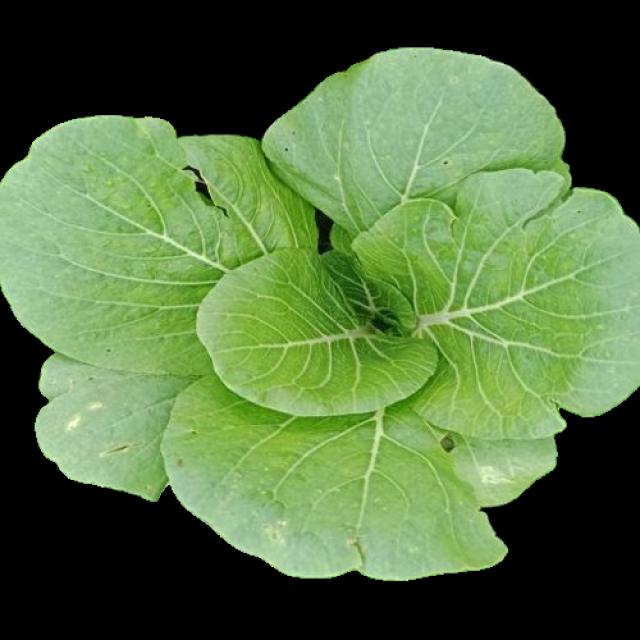mature: (1, 50, 640, 578)
unhealthy: (3, 115, 316, 375), (352, 169, 640, 426), (160, 378, 506, 576), (268, 49, 572, 242), (34, 354, 190, 500), (385, 404, 558, 506)
